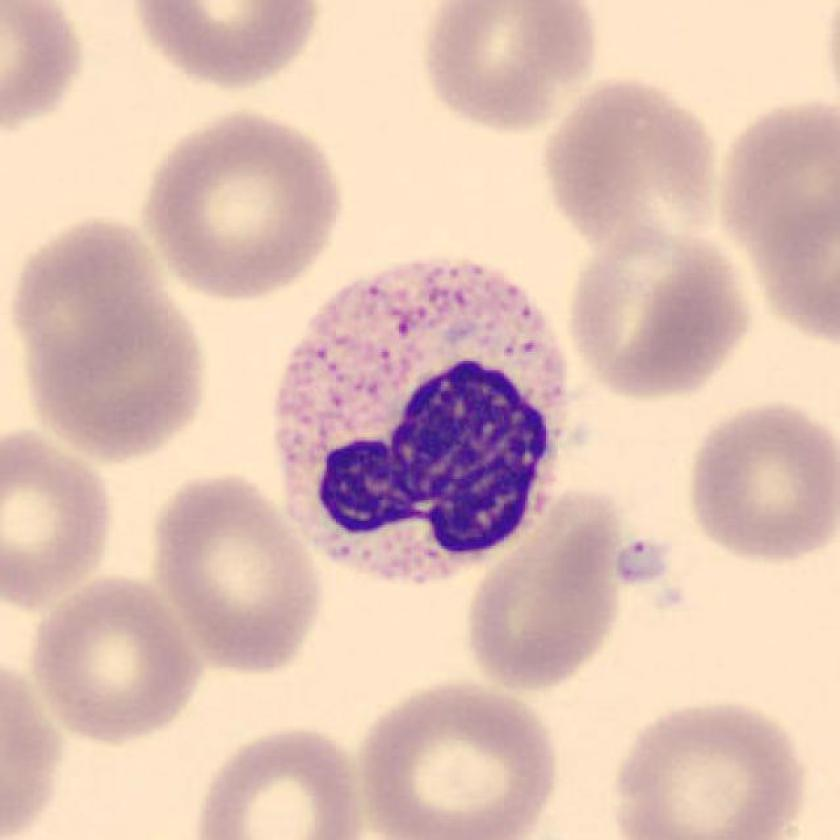neutrophil: (277, 262, 566, 585)
